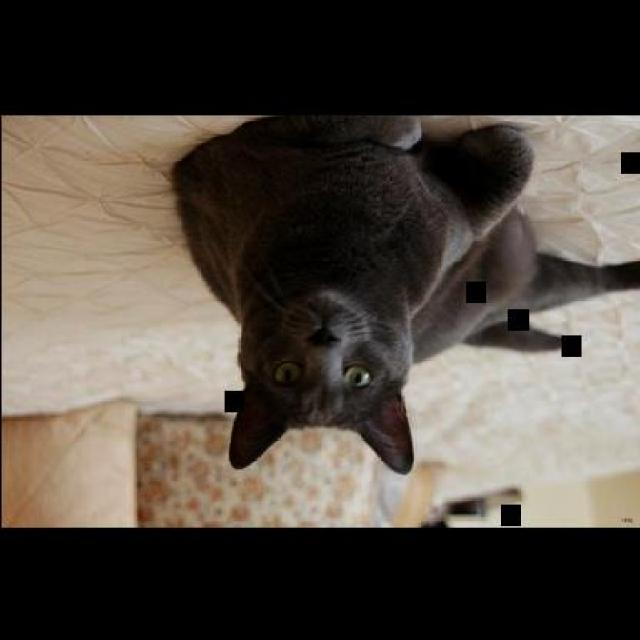unauthorized: (167, 114, 638, 475)
